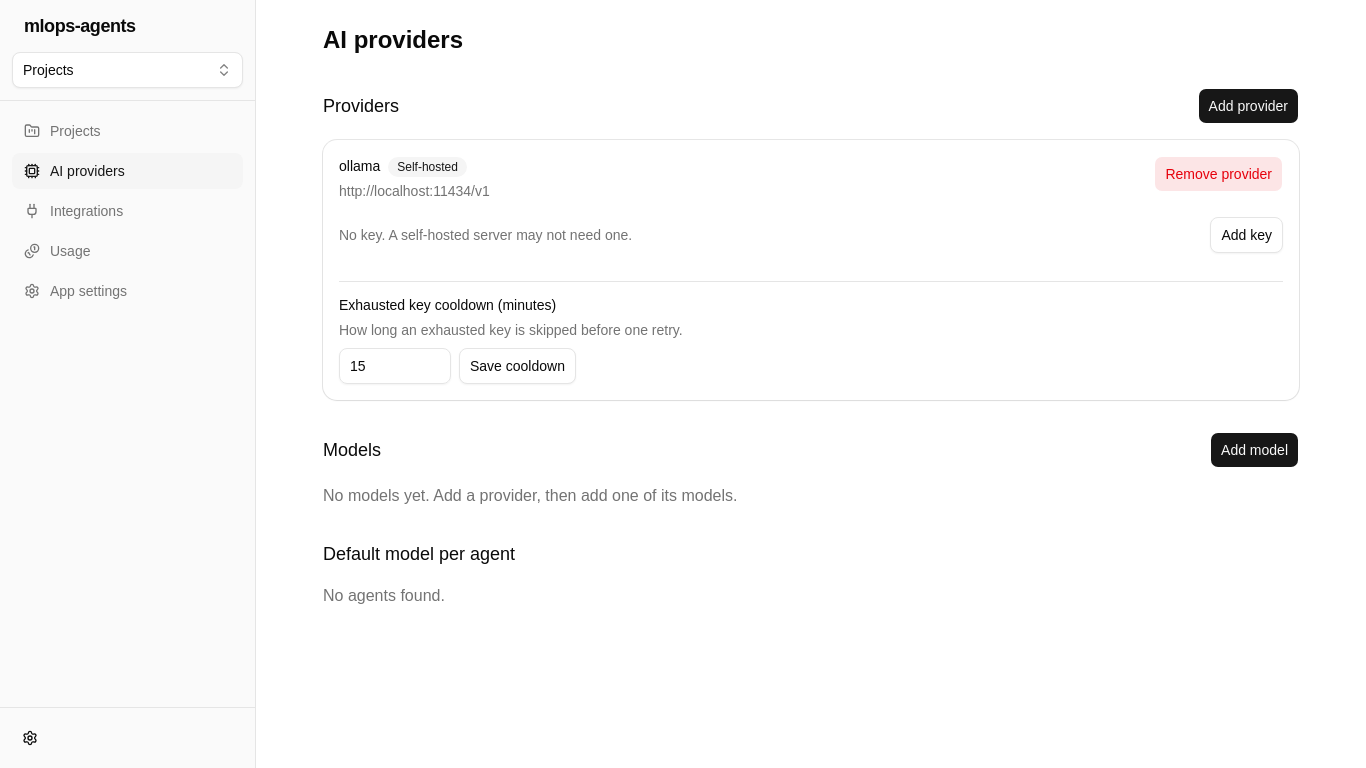
Test case: AI providers page › sends a new key once, clears the input and never shows the key again
Click the button "Add key" at (1247, 235), box [1210,217,1283,253]
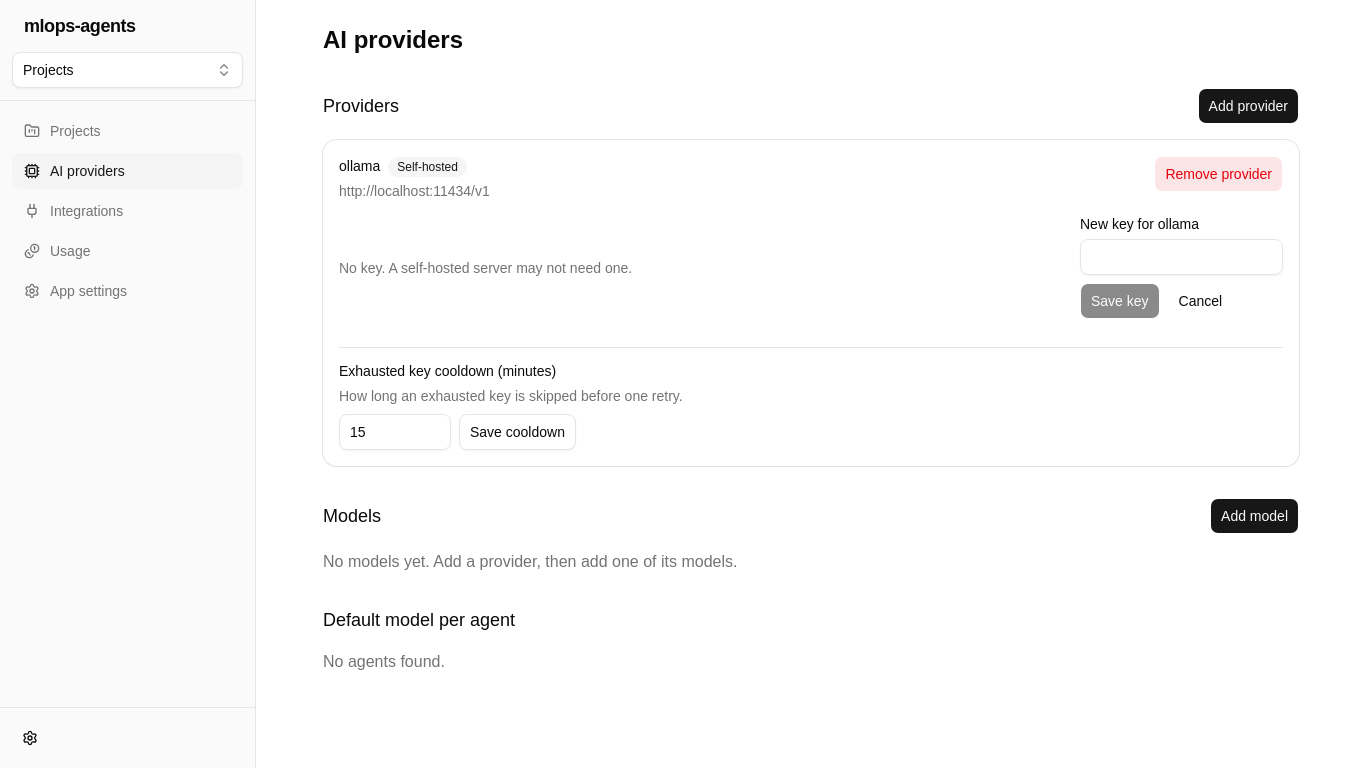
Type "sk-test-not-a-real-key" into the password field labelled "New key for ollama" at (1182, 257), box [1080,239,1283,275]
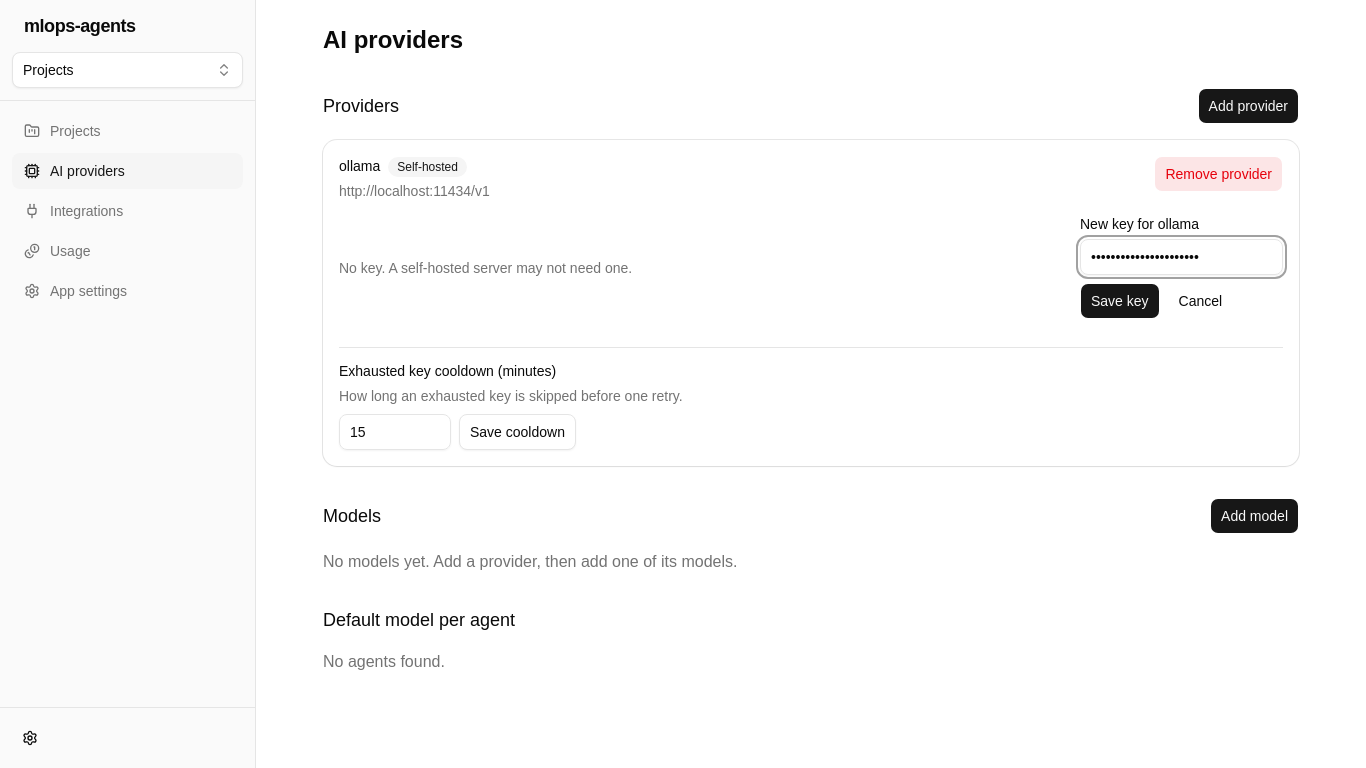
Click the button "Save key" at (1120, 301), box [1080,283,1160,319]
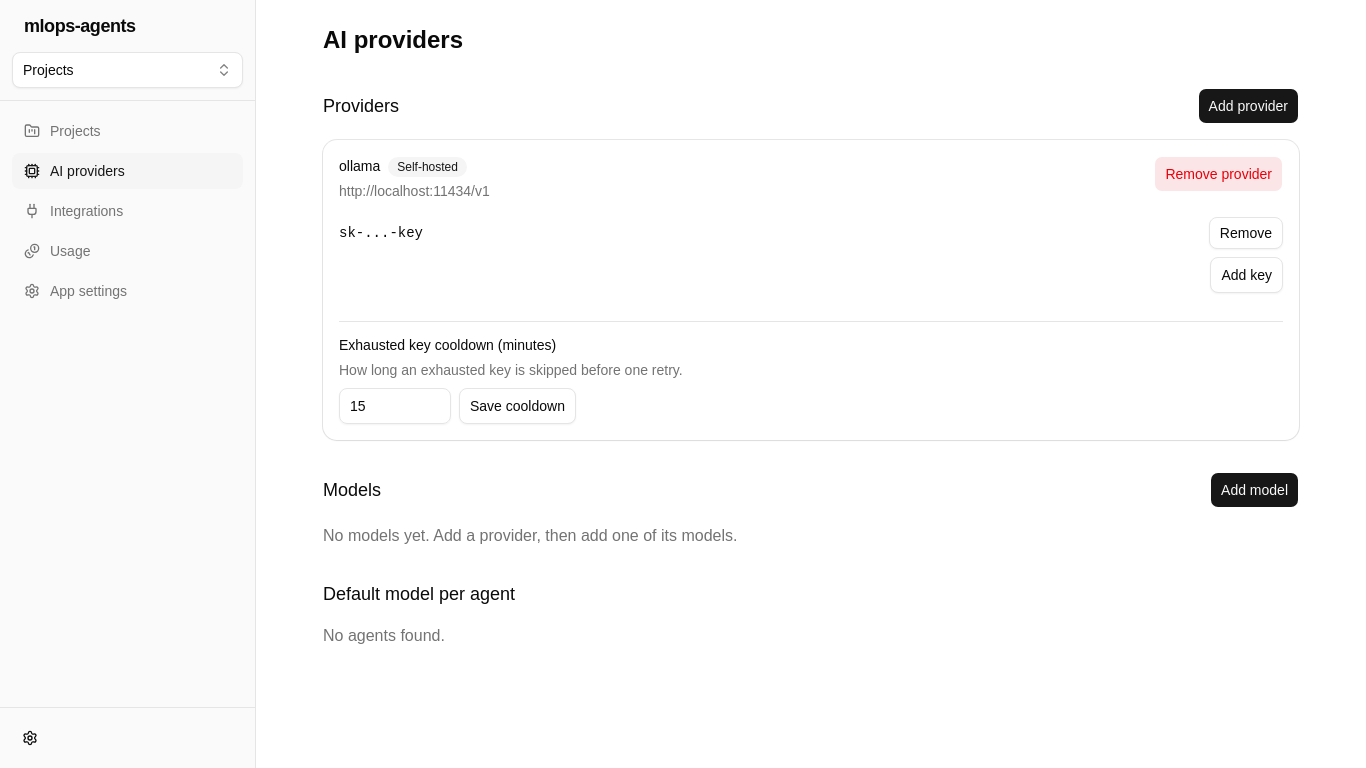
Now the text "sk-...-key" is shown, box [339,223,423,243]
Now the label labelled "New key for ollama" is gone
